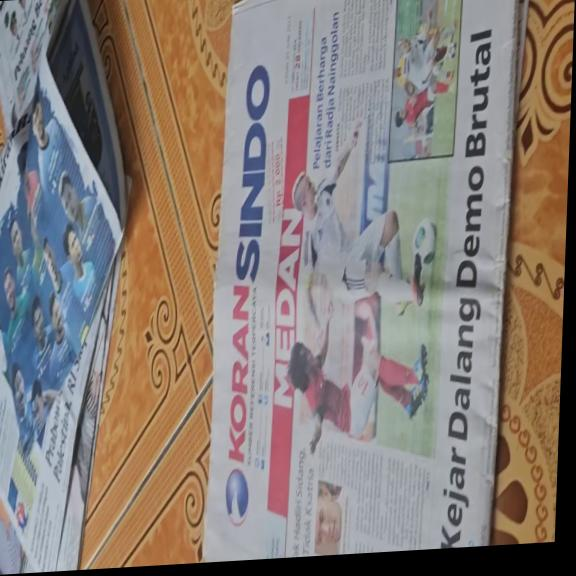Kertas: (210, 0, 521, 558)
